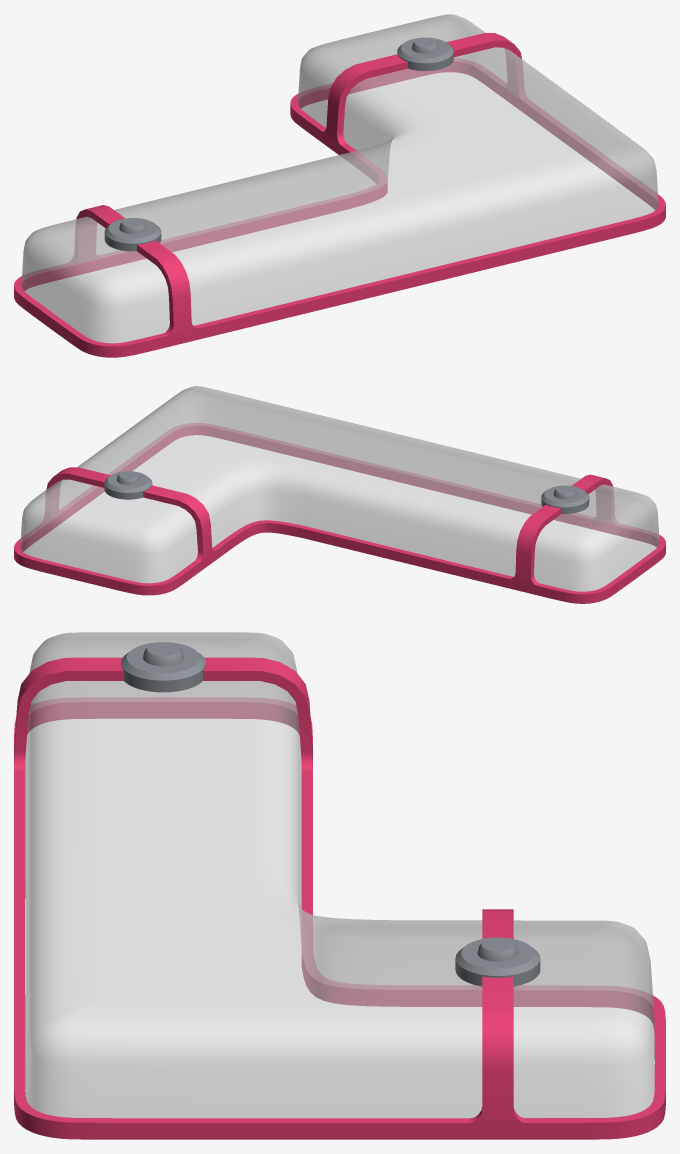
File: hop_L_L_2_T2.fbx
The picture shows the model from 3 angles, top to bottom: view 1: azimuth 30°, elevation 25°; view 2: azimuth 150°, elevation 25°; view 3: azimuth 270°, elevation 25°; orthographic projection. The views are drawn at different scales.
Parts seen in each view (by area): view 1: Cube.185, Cube.186, Cylinder.234, Cylinder.229; view 2: Cube.185, Cube.186, Cylinder.234, Cylinder.229; view 3: Cube.185, Cube.186, Cylinder.229, Cylinder.234.
Boxes of the visible parts, x1,y1,x2,y2 form: Cube.185: (21, 14, 658, 343); Cube.186: (14, 33, 665, 357); Cylinder.234: (397, 37, 453, 71); Cylinder.229: (104, 218, 161, 251); Cube.185: (20, 386, 659, 591); Cube.186: (14, 423, 665, 603); Cylinder.234: (104, 471, 152, 499); Cylinder.229: (541, 485, 589, 513); Cube.185: (25, 632, 654, 1118); Cube.186: (14, 657, 665, 1139); Cylinder.229: (121, 642, 205, 692); Cylinder.234: (455, 937, 540, 986).
Bounding box in the file's own units: 542 × 75 × 351.
